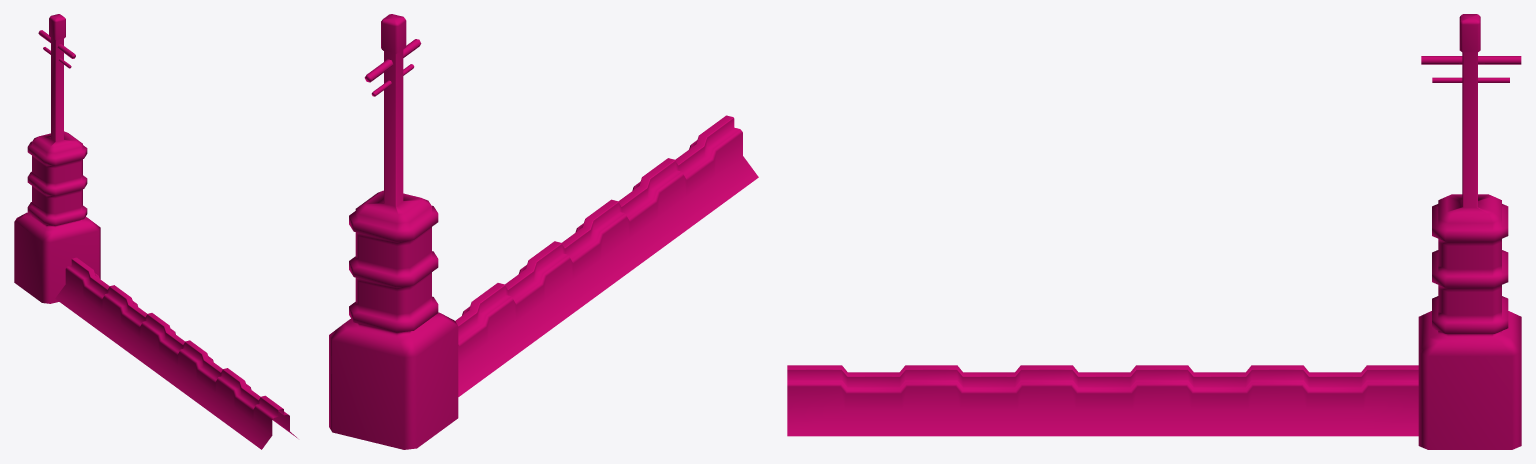
File: UI_WALL.fbx
The picture shows the model from 3 angles, left to right: view 1: azimuth 30°, elevation 25°; view 2: azimuth 150°, elevation 25°; view 3: azimuth 270°, elevation 25°; orthographic projection. The views are drawn at different scales.
Visible parts, largest first — view 1: pCube13, pCube14; view 2: pCube14, pCube13, pCylinder8; view 3: pCube13, pCube14, pCylinder8.
Part boxes in pixels (bbox=[...]): pCube13: bbox=[55, 257, 297, 449]; pCube14: bbox=[14, 14, 100, 303]; pCube14: bbox=[329, 14, 458, 449]; pCube13: bbox=[455, 115, 758, 396]; pCylinder8: bbox=[364, 39, 421, 82]; pCube13: bbox=[787, 365, 1418, 436]; pCube14: bbox=[1418, 14, 1521, 449]; pCylinder8: bbox=[1421, 56, 1521, 64].
Bounding box in the file's own units: 2.07 × 9.07 × 14.7.
